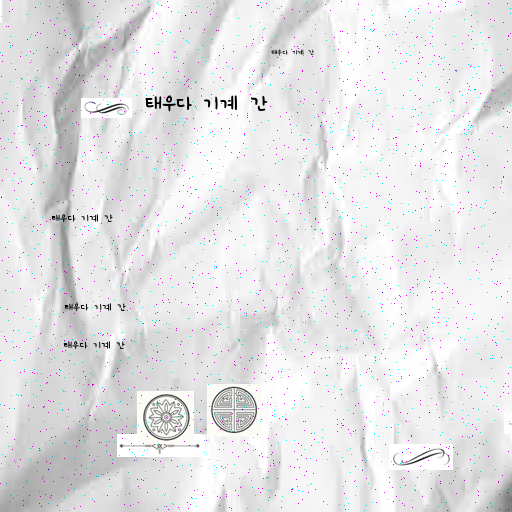text: (144, 95, 284, 115), (51, 214, 121, 224), (63, 341, 133, 351), (64, 303, 134, 313), (271, 49, 320, 56)
